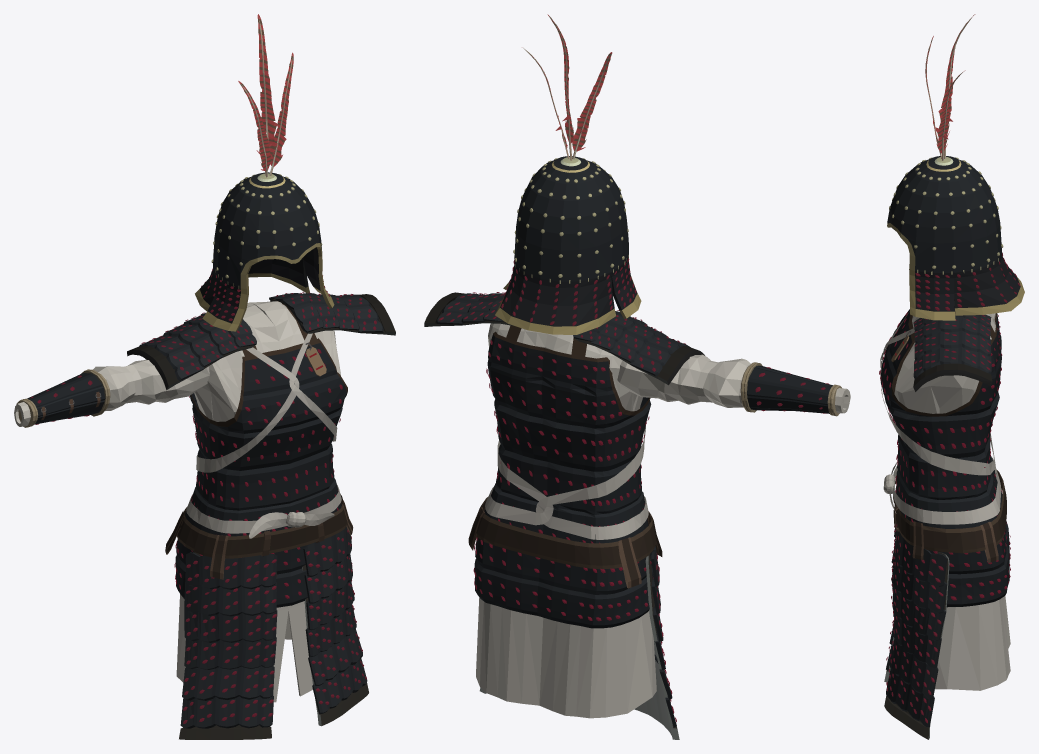
File: tangDynastyWarriorFemale.glb
3 renders of one model, left to right at view 1: azimuth 30°, elevation 25°; view 2: azimuth 150°, elevation 25°; view 3: azimuth 270°, elevation 25°, orthographic. The views are drawn at different scales.
Visible parts, largest first — view 1: ttangDynastyWarriorBody, tangDynastyWarriorHelmet, tangDynastyWarriorLowerArm, tangDynastyWarriorUpperArm; view 2: ttangDynastyWarriorBody, tangDynastyWarriorHelmet, tangDynastyWarriorLowerArm, tangDynastyWarriorUpperArm; view 3: ttangDynastyWarriorBody, tangDynastyWarriorHelmet.
Part boxes in pixels (<box>): ttangDynastyWarriorBody: <box>127,292,395,739</box>; tangDynastyWarriorHelmet: <box>195,14,334,331</box>; tangDynastyWarriorLowerArm: <box>14,366,135,427</box>; tangDynastyWarriorUpperArm: <box>124,359,209,404</box>; ttangDynastyWarriorBody: <box>424,292,704,739</box>; tangDynastyWarriorHelmet: <box>495,14,641,334</box>; tangDynastyWarriorLowerArm: <box>703,358,850,416</box>; tangDynastyWarriorUpperArm: <box>617,354,717,404</box>; ttangDynastyWarriorBody: <box>879,309,1010,739</box>; tangDynastyWarriorHelmet: <box>887,14,1024,320</box>.
Size of the model in its own units: 1.12 by 1.96 by 0.3792.
